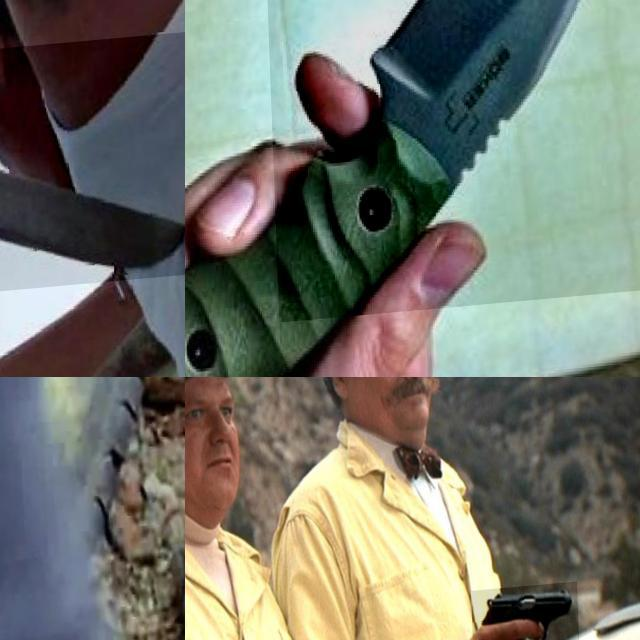-: (260, 0, 640, 326), (0, 42, 185, 318)
gun-knife-thesis - v11 Yolov5 augmented: (467, 591, 576, 640)
